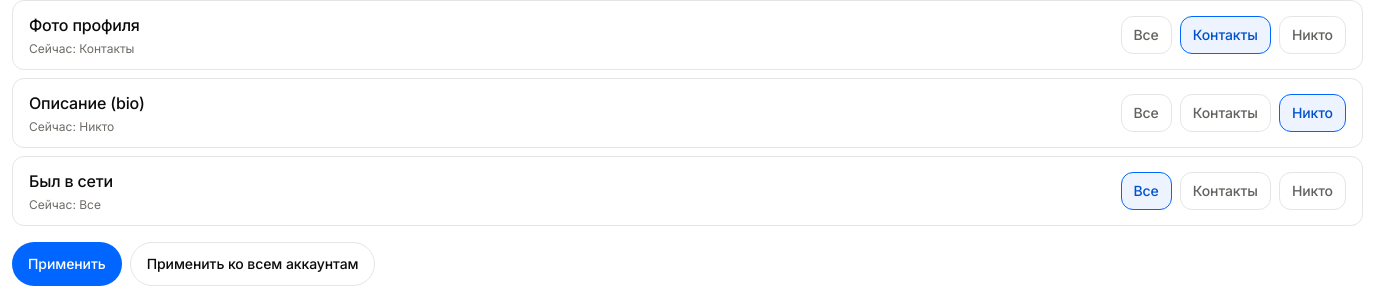
Test: picking a level sends only that key and adopts the re-read state
The image size is (1378, 303).
Expected: the text "Описание (bio)" is shown, [29,93,145,113]
Click the radio button labelled "Контакты" in the row of "Описание (bio)".
click(1225, 113)  # box [1180,94,1271,132]
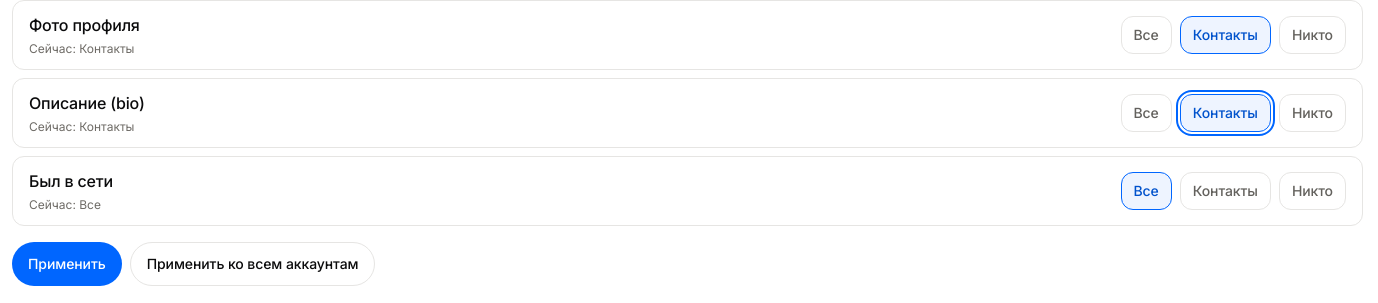
Result: the text "Сейчас: Контакты" below "Описание (bio)" is shown at [29,119,134,134]
